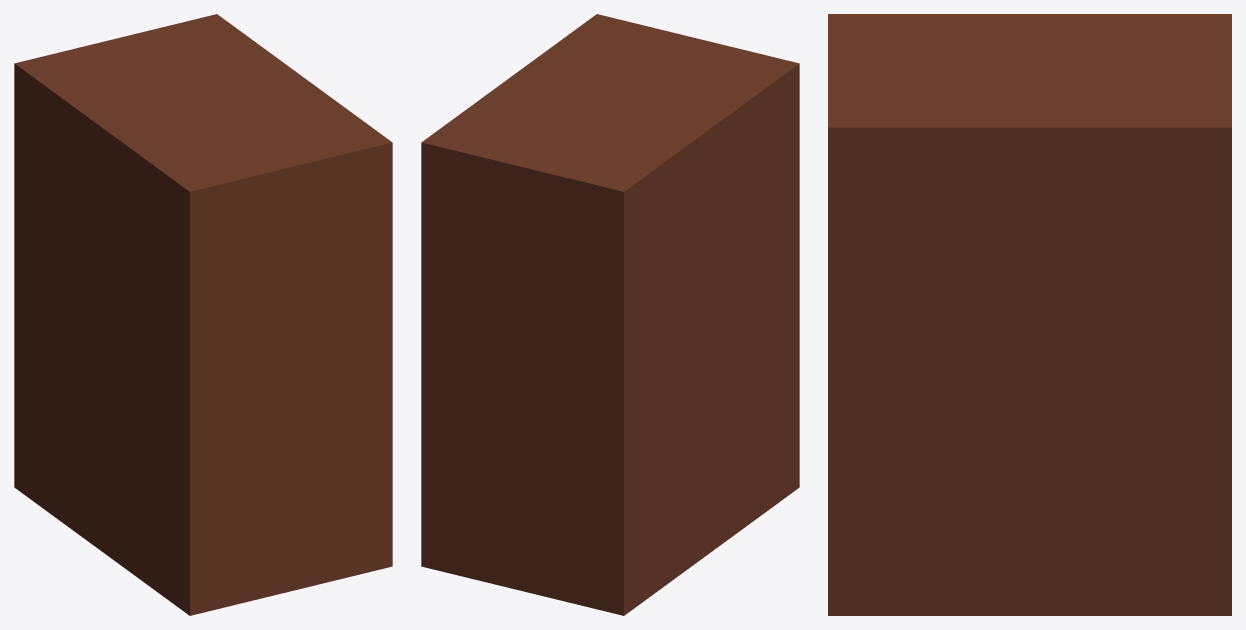
The model's file is Char18-Torso.gltf.
The picture shows the model from 3 angles, left to right: view 1: azimuth 30°, elevation 25°; view 2: azimuth 150°, elevation 25°; view 3: azimuth 270°, elevation 25°; orthographic projection. The views are drawn at different scales.
Size of the model in its own units: 4 by 8 by 6.
